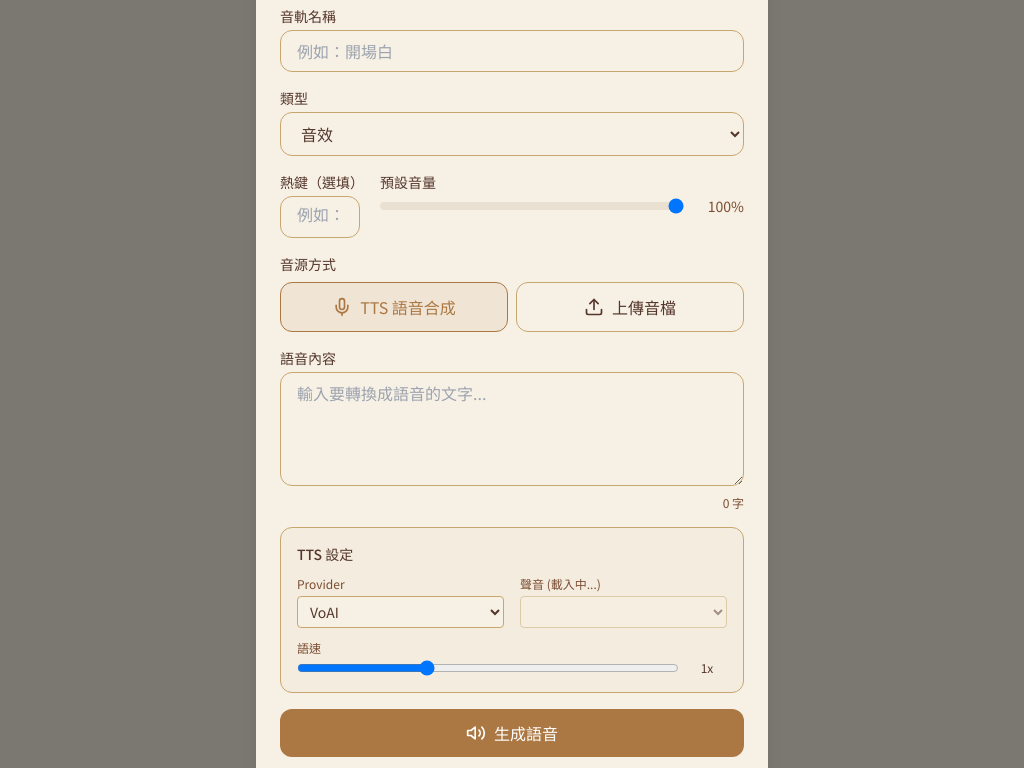
Test: TrackEditorModal › Preview play/stop › shows preview button after TTS audio is generated
// Enter text and generate
In the text box with placeholder "輸入要轉換成語音的文字...": (512, 428) x1=280 y1=372 x2=744 y2=486, type "Preview this"
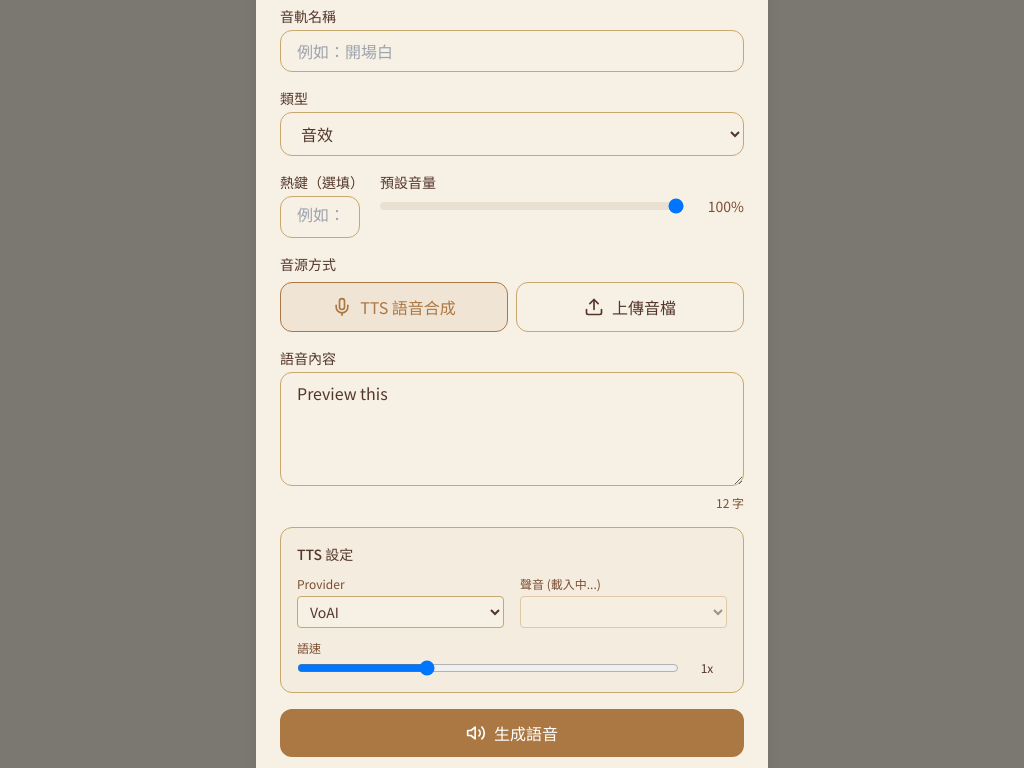
Click the button "生成語音": click(512, 732) x1=280 y1=708 x2=744 y2=756
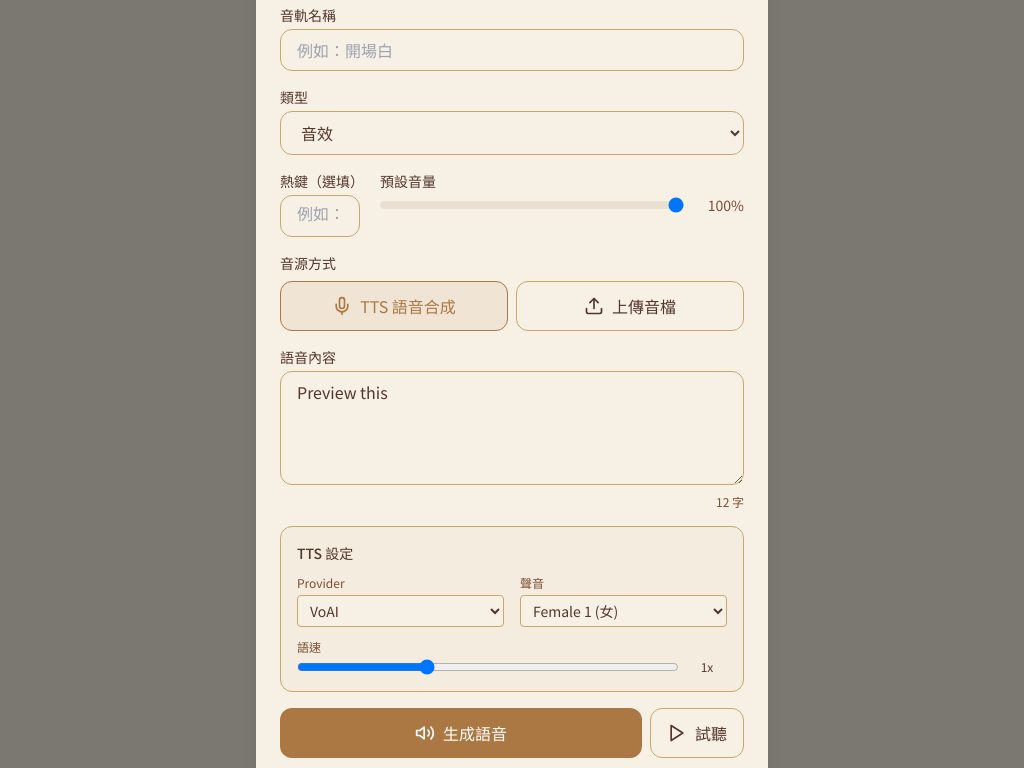
Now the text "試聽" is shown, box x1=695 y1=720 x2=727 y2=744
